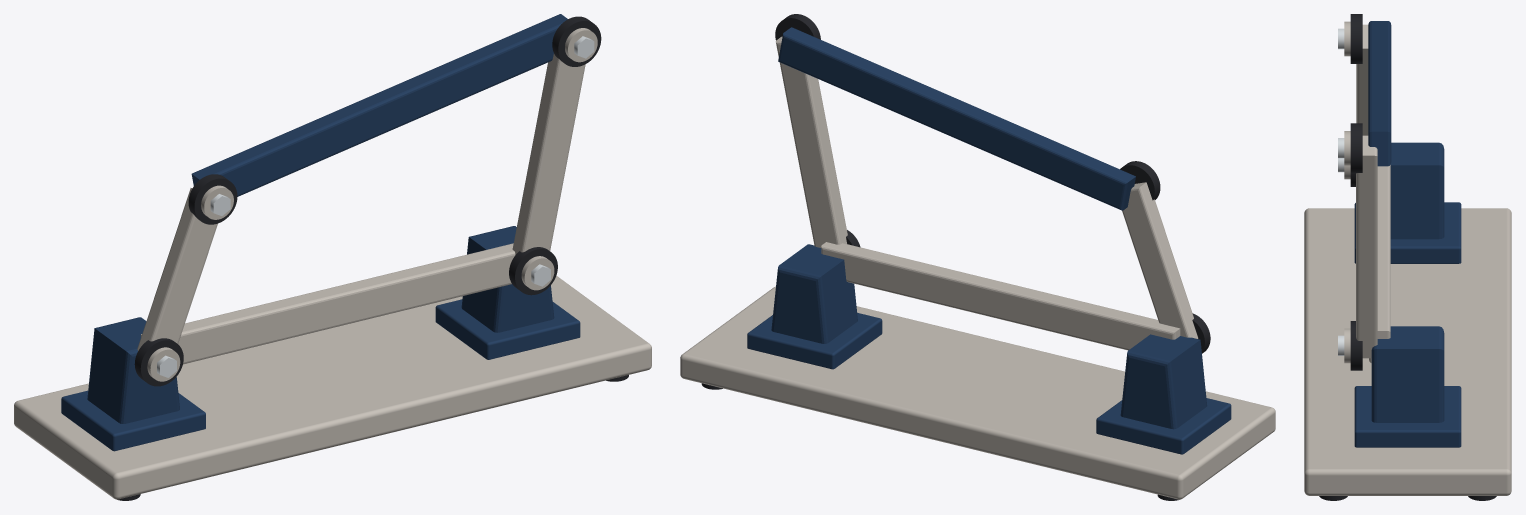
File: robots-44.glb
3 renders of one model, left to right at view 1: azimuth 30°, elevation 25°; view 2: azimuth 150°, elevation 25°; view 3: azimuth 270°, elevation 25°, orthographic. The views are drawn at different scales.
Visible parts, largest first — view 1: base, brackets, coupler, fixed, right, left, pins, ground-pins, washers; view 2: base, brackets, coupler, fixed, right, left, pins; view 3: base, brackets, right, coupler, fixed, pins, left, ground-pins, washers.
Boxes of the visible parts, <box> form: base: <box>14,276,651,499</box>; brackets: <box>61,226,580,451</box>; coupler: <box>191,14,567,196</box>; fixed: <box>141,243,515,364</box>; right: <box>512,54,585,254</box>; left: <box>137,188,217,350</box>; pins: <box>188,16,601,224</box>; ground-pins: <box>134,247,557,386</box>; washers: <box>147,28,597,381</box>; base: <box>680,286,1275,499</box>; brackets: <box>747,244,1231,454</box>; coupler: <box>778,27,1135,210</box>; fixed: <box>821,242,1180,350</box>; right: <box>775,36,847,247</box>; left: <box>1122,182,1198,338</box>; pins: <box>775,14,1160,200</box>; base: <box>1304,208,1511,495</box>; brackets: <box>1354,142,1461,447</box>; right: <box>1356,135,1377,358</box>; coupler: <box>1368,21,1391,166</box>; fixed: <box>1369,165,1390,362</box>; pins: <box>1338,14,1362,173</box>; left: <box>1356,24,1368,135</box>; ground-pins: <box>1338,158,1362,370</box>; washers: <box>1344,21,1350,363</box>.
Bounding box in the file's own units: 3.11 × 1.95 × 1.03.
